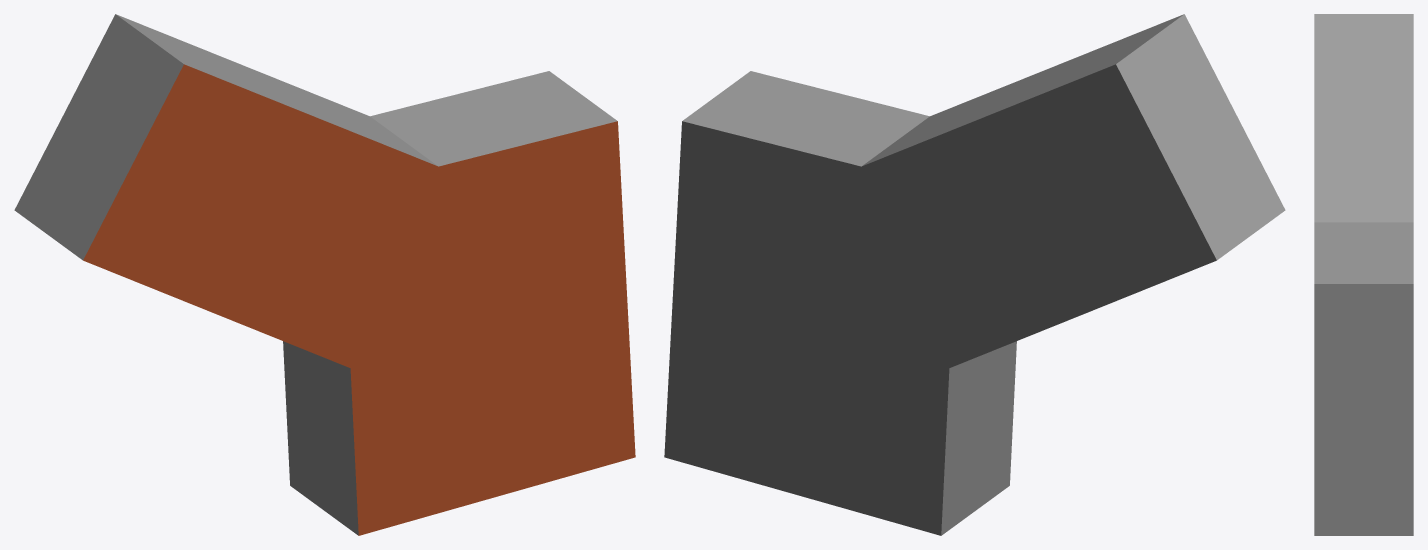
Rendered from construction_6273_assumed_A_Casa_h6m.obj.
3 views of the same model, side by side, from view 1: azimuth 30°, elevation 25°; view 2: azimuth 150°, elevation 25°; view 3: azimuth 270°, elevation 25° (orthographic). The views are drawn at different scales.
Visible parts, largest first — view 1: construction_6273_assumed_A_Casa; view 2: construction_6273_assumed_A_Casa; view 3: construction_6273_assumed_A_Casa.
Part boxes in pixels (x1,y1,x2,y2): construction_6273_assumed_A_Casa: [14, 14, 635, 535]; construction_6273_assumed_A_Casa: [664, 14, 1285, 535]; construction_6273_assumed_A_Casa: [1314, 14, 1413, 535].
Bounding box in the file's own units: 27.88 × 24.8 × 6.
